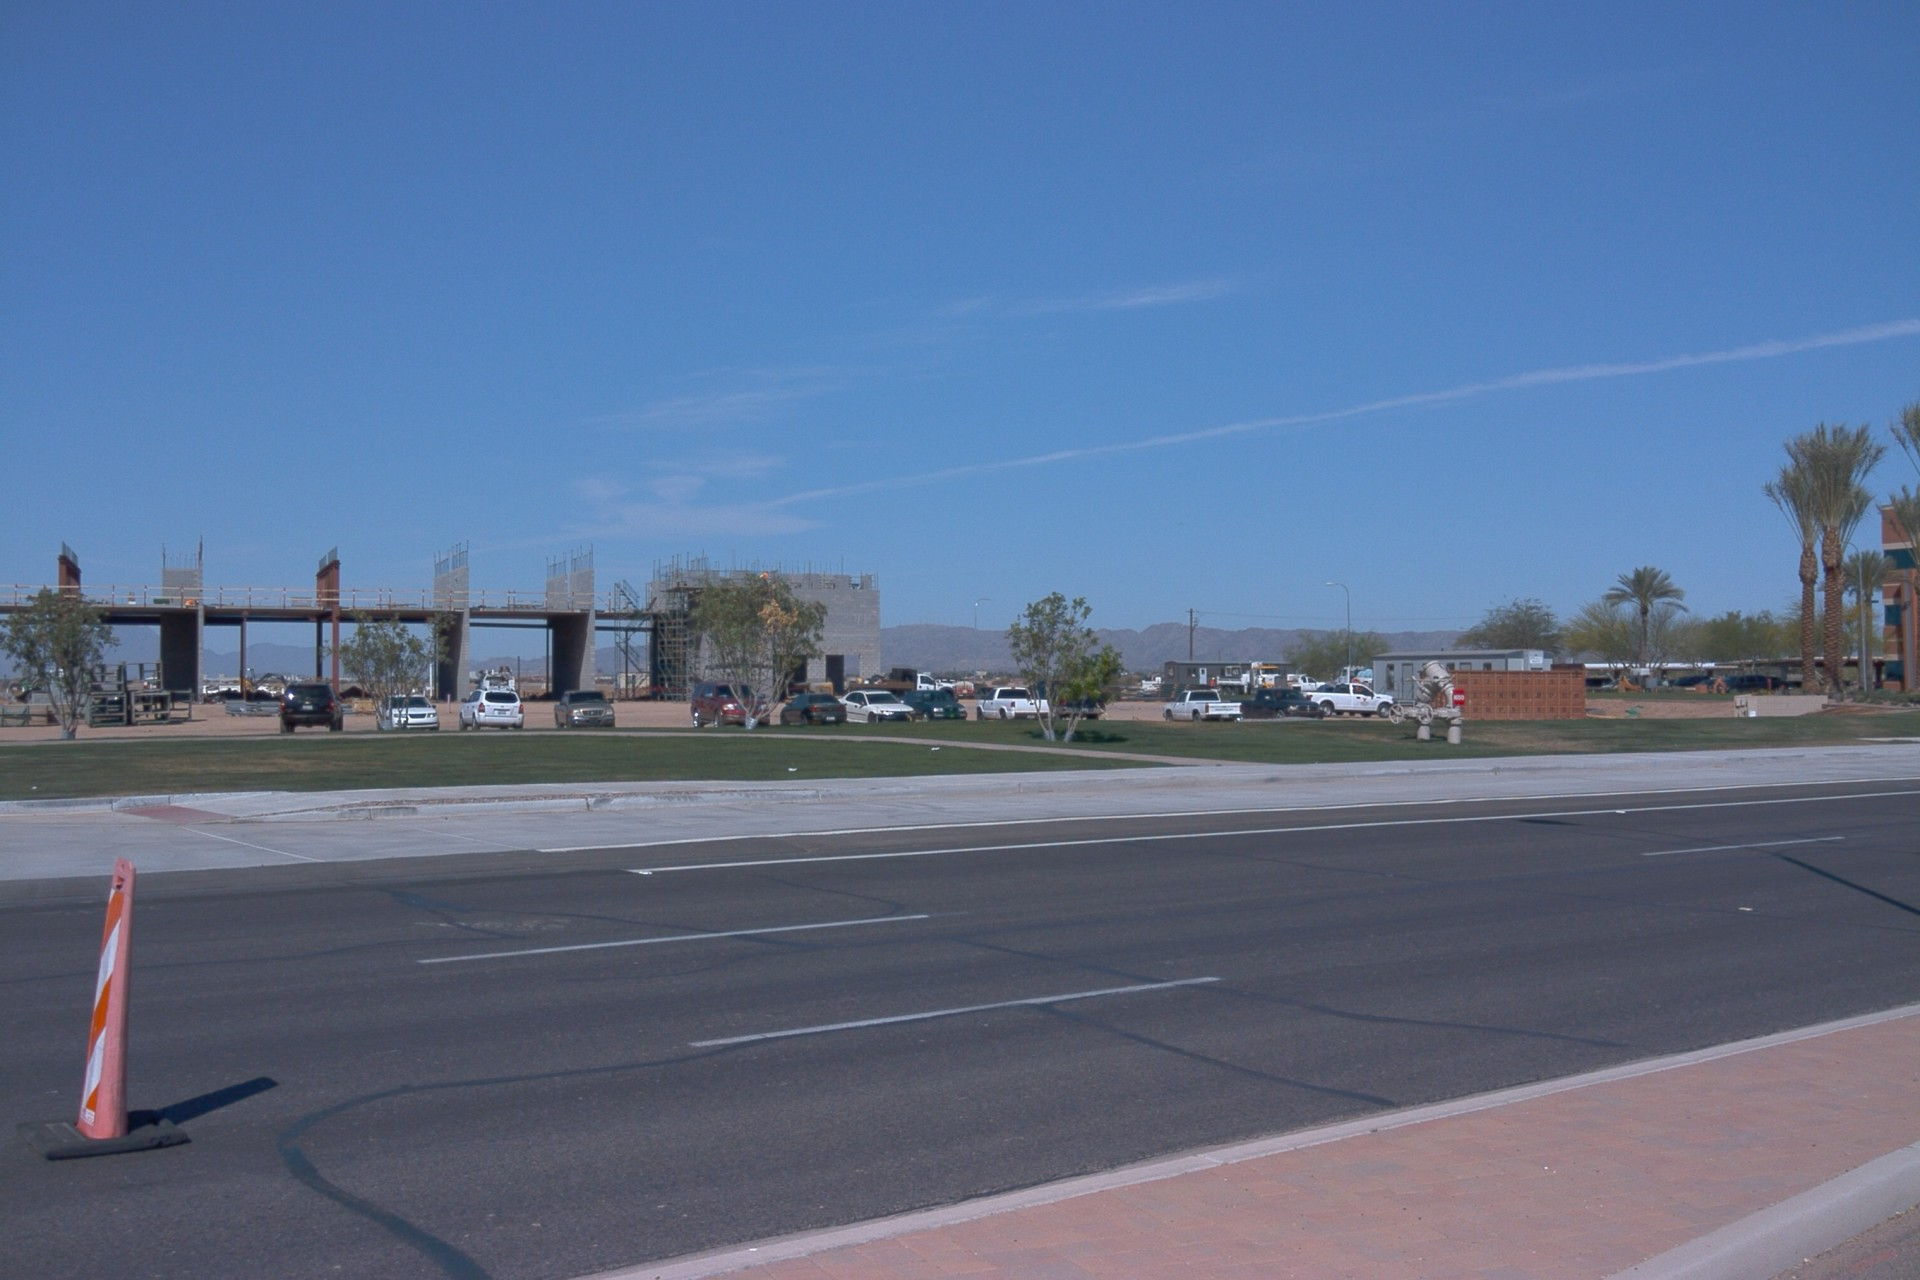TYPE_PEDESTRIAN: (1660, 675, 1671, 688), (1209, 675, 1217, 687)
TYPE_VEHICLE: (1293, 679, 1397, 721), (691, 678, 773, 729), (844, 667, 952, 704), (279, 677, 347, 735), (1027, 675, 1106, 722), (1157, 684, 1237, 726), (1215, 662, 1296, 703), (458, 687, 526, 735), (838, 686, 917, 727), (978, 683, 1056, 724), (549, 683, 616, 730), (1232, 682, 1326, 715), (778, 686, 846, 729), (373, 692, 439, 735), (905, 688, 971, 724), (239, 667, 298, 700), (473, 665, 519, 699), (1722, 671, 1775, 693), (1331, 668, 1375, 688), (1677, 676, 1721, 691), (1584, 674, 1622, 690), (951, 683, 976, 704), (937, 681, 954, 686)
